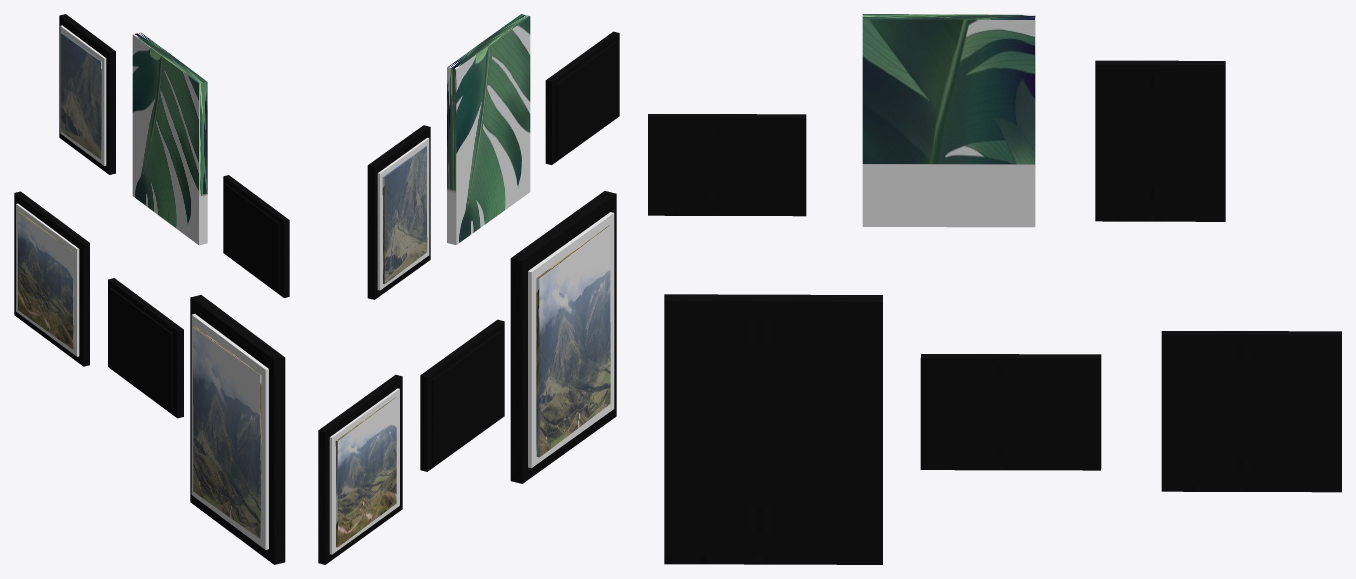
Rendered from cuadros3.obj.
3 renders of one model, left to right at view 1: azimuth 30°, elevation 25°; view 2: azimuth 150°, elevation 25°; view 3: azimuth 270°, elevation 25°, orthographic. The views are drawn at different scales.
Parts seen in each view (by area): view 1: group1_pasted__pasted__polySurface10_pasted__polySurface11; view 2: group1_pasted__pasted__polySurface10_pasted__polySurface11; view 3: group1_pasted__pasted__polySurface10_pasted__polySurface11.
Boxes of the visible parts, x1,y1,x2,y2 form: group1_pasted__pasted__polySurface10_pasted__polySurface11: (14, 14, 289, 564); group1_pasted__pasted__polySurface10_pasted__polySurface11: (318, 14, 619, 564); group1_pasted__pasted__polySurface10_pasted__polySurface11: (648, 14, 1341, 564).
Size of the model in its own units: 0.2268 by 5.33 by 6.16.
14 materials, 14 textured.
